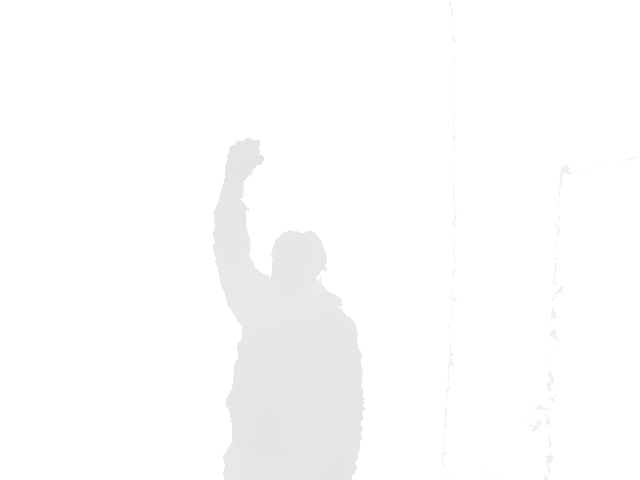hand: (224, 137, 265, 180)
head: (269, 229, 328, 293)
person: (211, 137, 365, 479)
